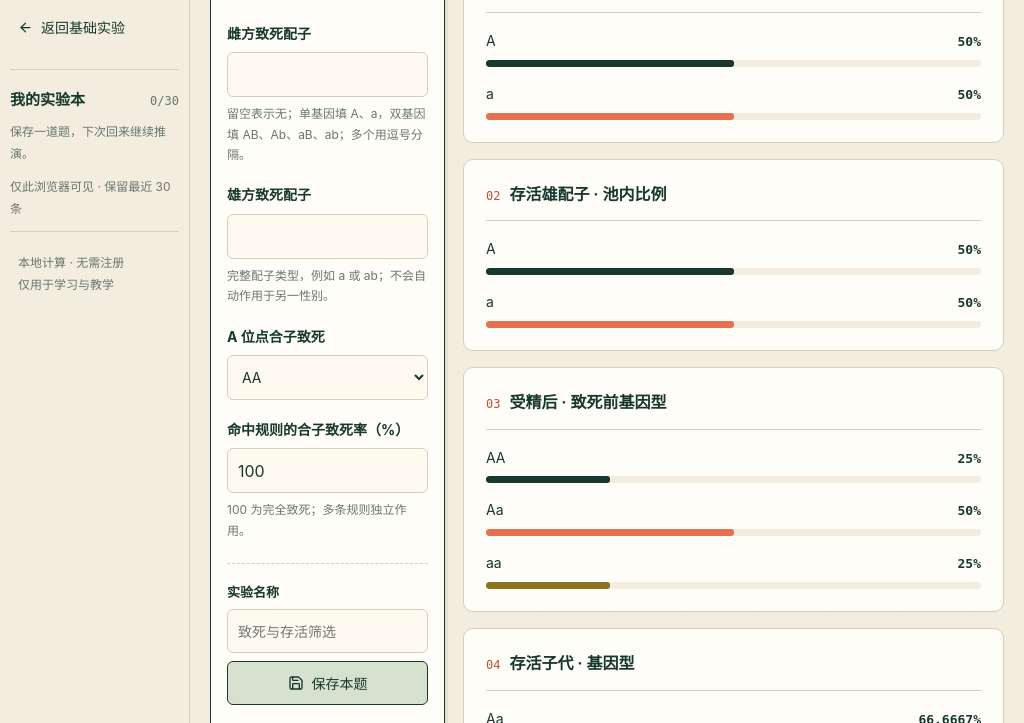
Test: high-school workbench › changes rules, hides stale results on invalid input, and resets
The width and height of the screenshot is (1024, 723).
(page scrolled)
Select "无" in the dropdown labelled "A 位点合子致死". click: (328, 378)
box: [227,355,428,400]
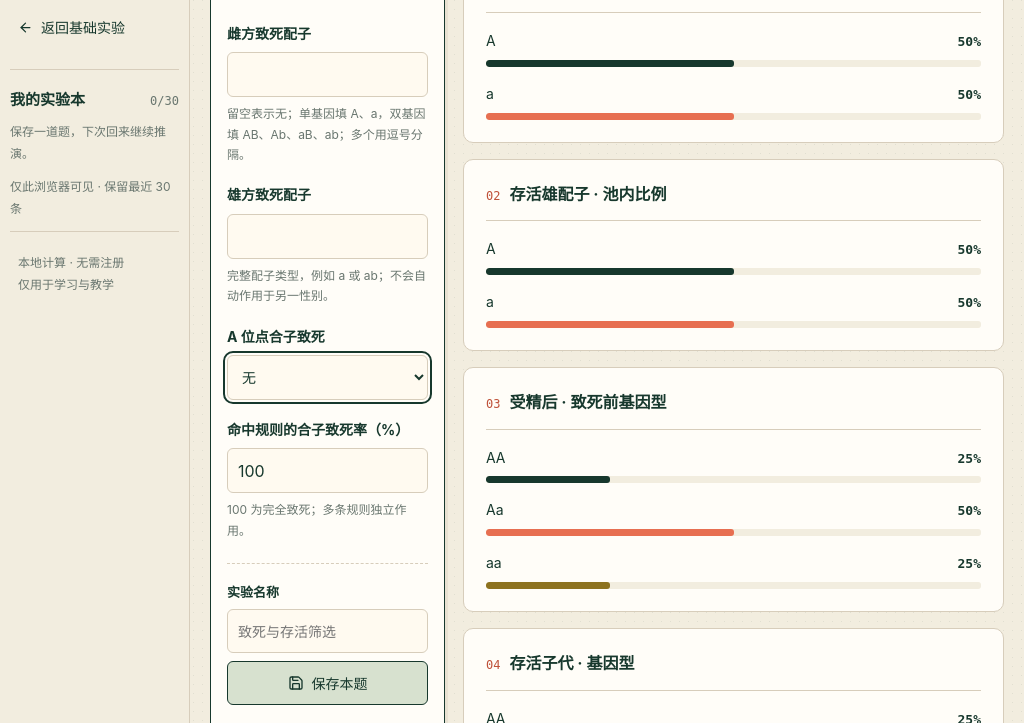
Clear the number field labelled "命中规则的合子致死率（%）". click: (328, 471)
box: [227,448,428,493]
(page scrolled)
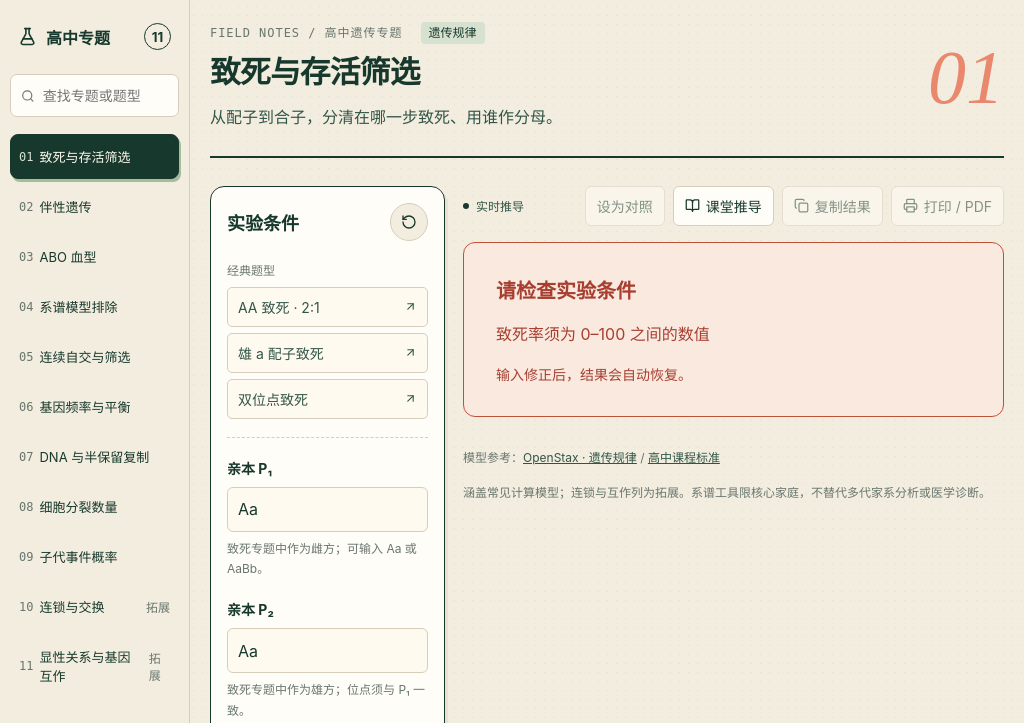
Check: the message shows "致死率", box [463,242,1004,417]
Click the button named "重置本题". click: (409, 222)
box: [390,203,428,241]
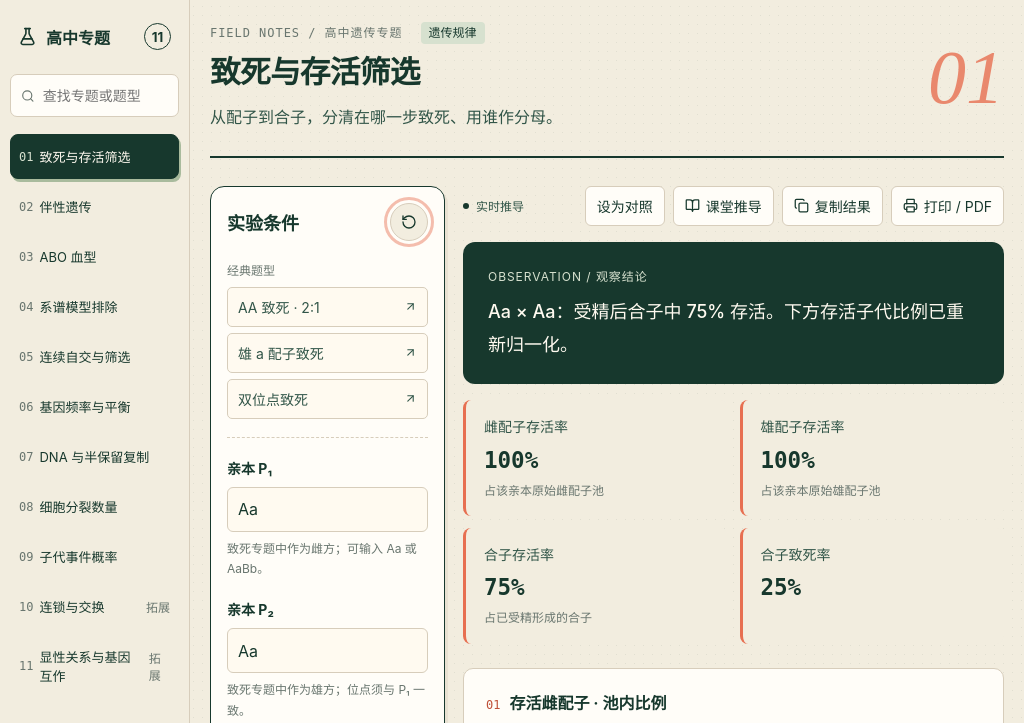
Check: the element with test id "metric-合子存活率" shows "75%", box [484,574,525,600]
